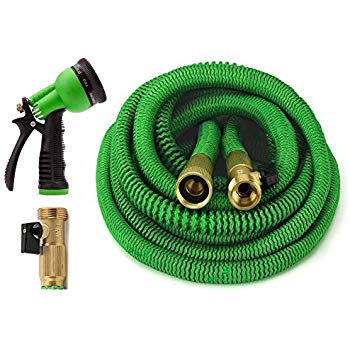Nonrec_Tangler: (94, 62, 342, 286)
